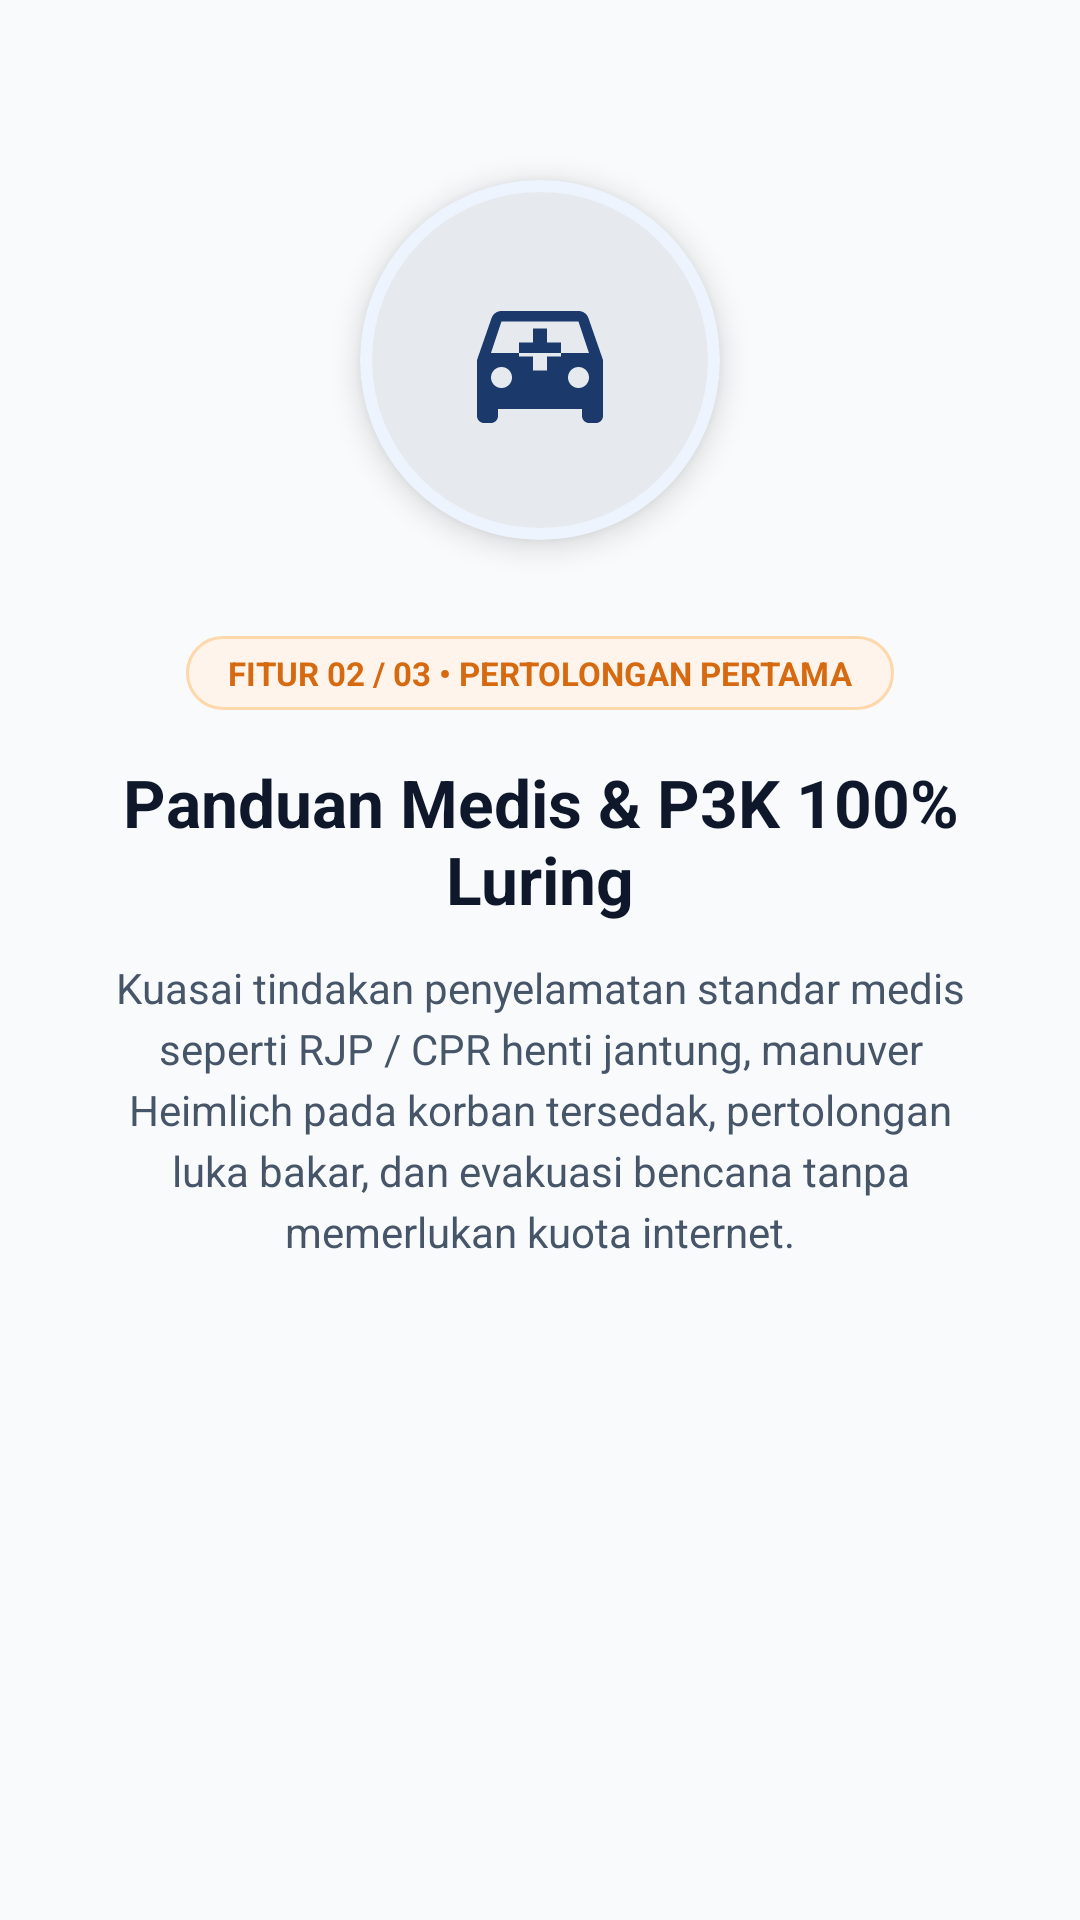

Named icons in this screenshot (1080 × 1920) and their centers, point (x, y):
Panduan P3K: point (540, 367)
